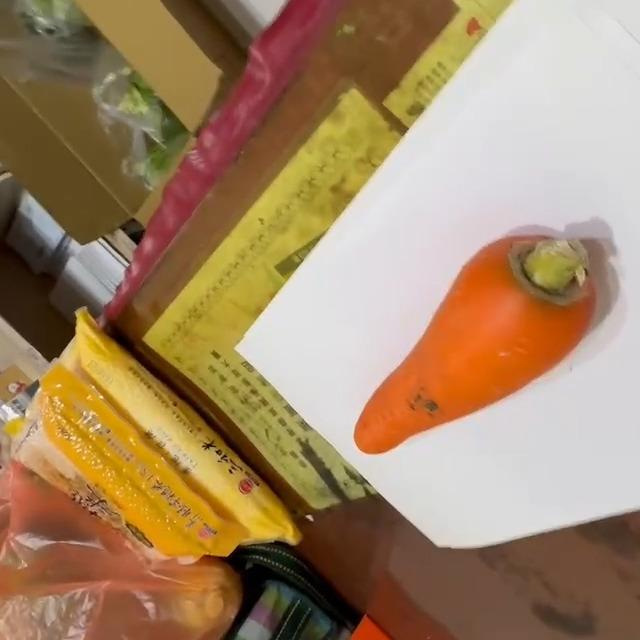carrot: (352, 233, 600, 456)
